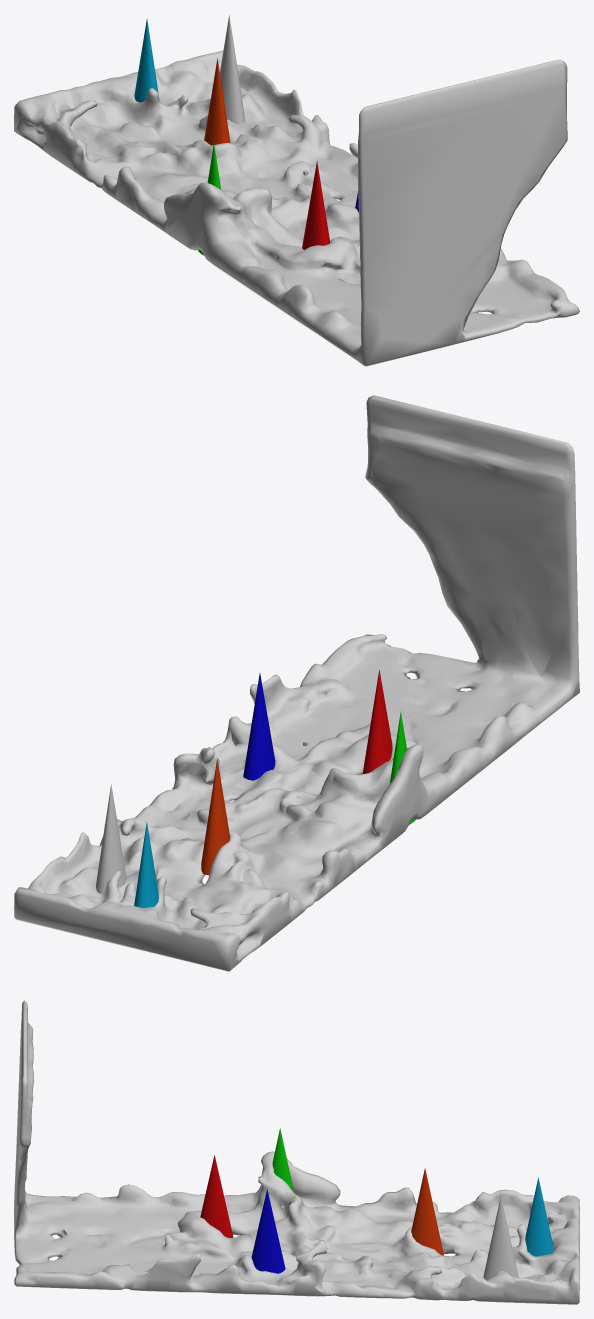
3 views of the same model, one above another, from view 1: azimuth 30°, elevation 25°; view 2: azimuth 150°, elevation 25°; view 3: azimuth 270°, elevation 25° (orthographic). The views are drawn at different scales.
Visible parts, largest first — view 1: Liquid_Domain, 円錐, 円錐.001, 円錐.004, 円錐.005; view 2: Liquid_Domain, 円錐.002, 円錐, 円錐.001, 円錐.004, 円錐.005; view 3: Liquid_Domain, 円錐.002, 円錐, 円錐.004, 円錐.005, 円錐.001, 円錐.003.
Boxes of the visible parts, left/top/right/bottom form: Liquid_Domain: left=14, top=50, right=579, bottom=366; 円錐: left=220, top=15, right=245, bottom=124; 円錐.001: left=302, top=160, right=329, bottom=249; 円錐.004: left=204, top=58, right=230, bottom=145; 円錐.005: left=134, top=18, right=159, bottom=102; Liquid_Domain: left=14, top=395, right=579, bottom=971; 円錐.002: left=243, top=673, right=275, bottom=780; 円錐: left=96, top=784, right=126, bottom=893; 円錐.001: left=362, top=670, right=392, bottom=773; 円錐.004: left=201, top=759, right=229, bottom=875; 円錐.005: left=134, top=821, right=158, bottom=907; Liquid_Domain: left=14, top=1000, right=579, bottom=1304; 円錐.002: left=251, top=1189, right=285, bottom=1273; 円錐: left=483, top=1196, right=518, bottom=1280; 円錐.004: left=411, top=1168, right=443, bottom=1255; 円錐.005: left=525, top=1177, right=553, bottom=1256; 円錐.001: left=200, top=1155, right=233, bottom=1237; 円錐.003: left=272, top=1128, right=293, bottom=1192.
Size of the model in its own units: 129 by 158 by 361.
